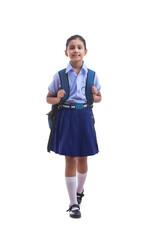Human: (42, 34, 107, 216)
